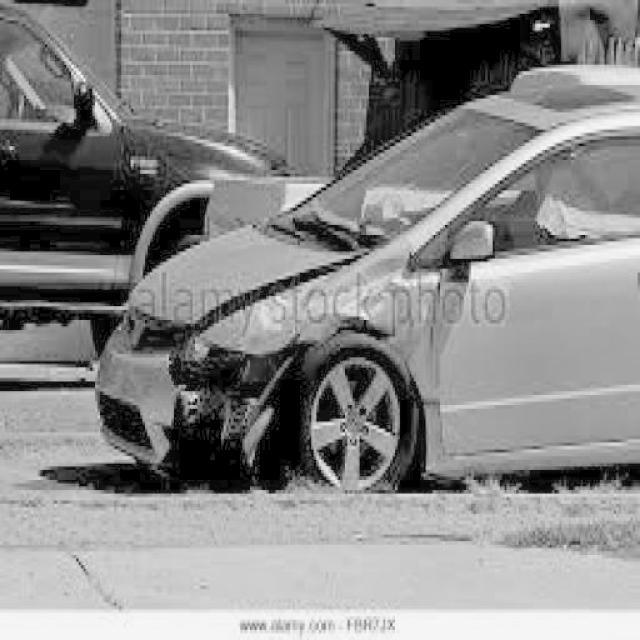car damage: (152, 240, 441, 481)
